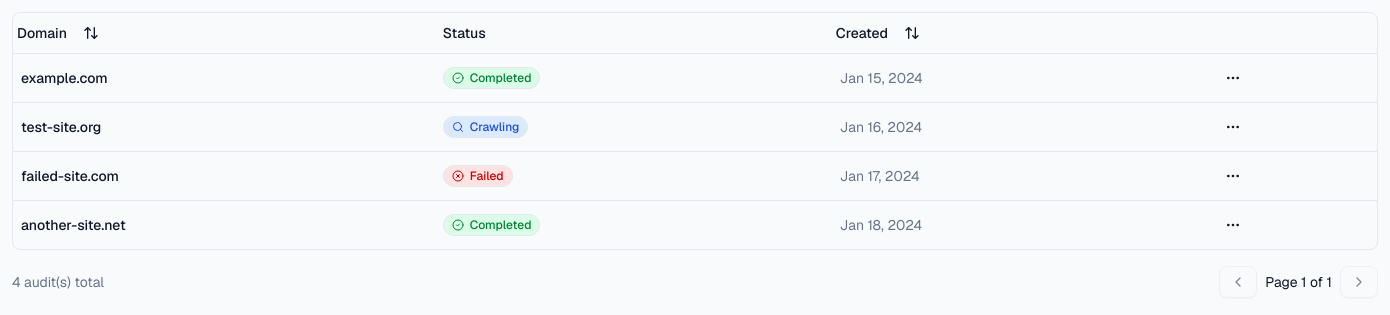
Test: AuditTable › actions menu › shows actions dropdown menu
This screenshot has width=1390, height=315.
Note: Find and click the first actions button
What coordinates should you click on to do the following:
click the button named "Open menu" in the row of "example.com"
I would click on:
 (1233, 78)
Its box is [1217,62,1249,94].
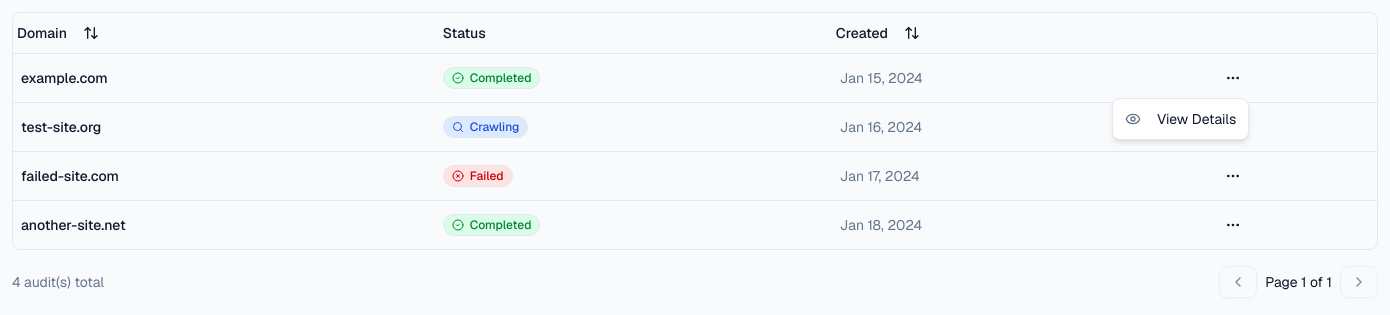
Expected: the menu item "View Details" is shown, [1125,110,1236,128]
